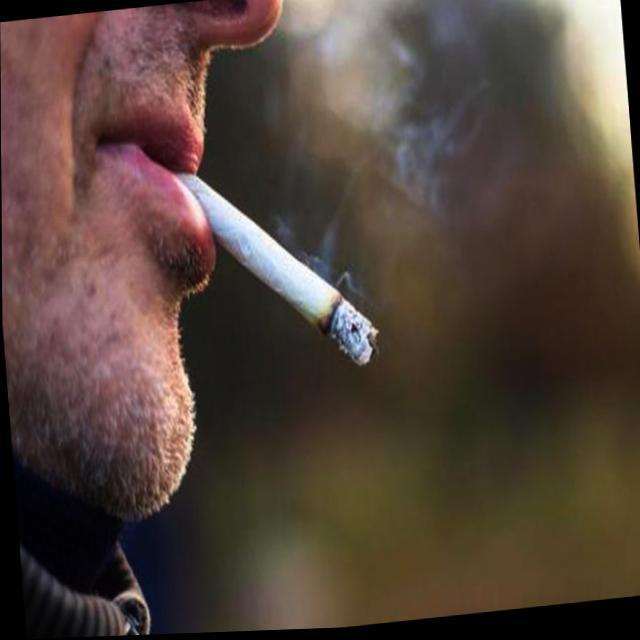Cigarette: (170, 164, 409, 367)
